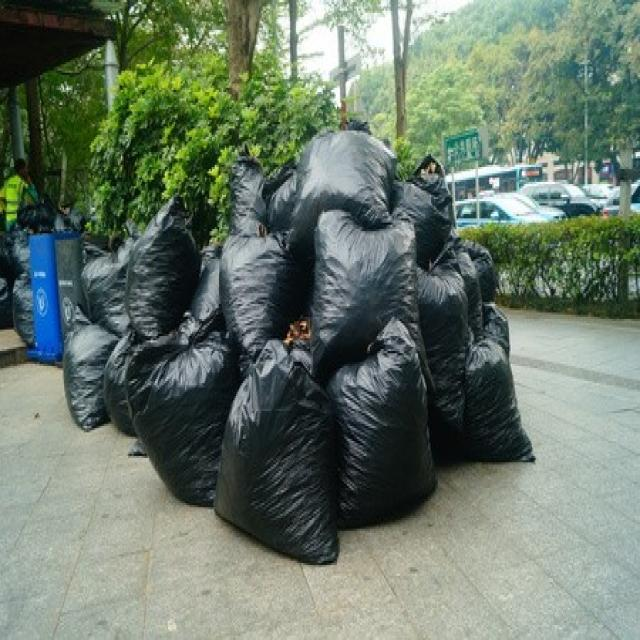garbage: (59, 196, 544, 570), (226, 116, 456, 223), (2, 220, 36, 360)
